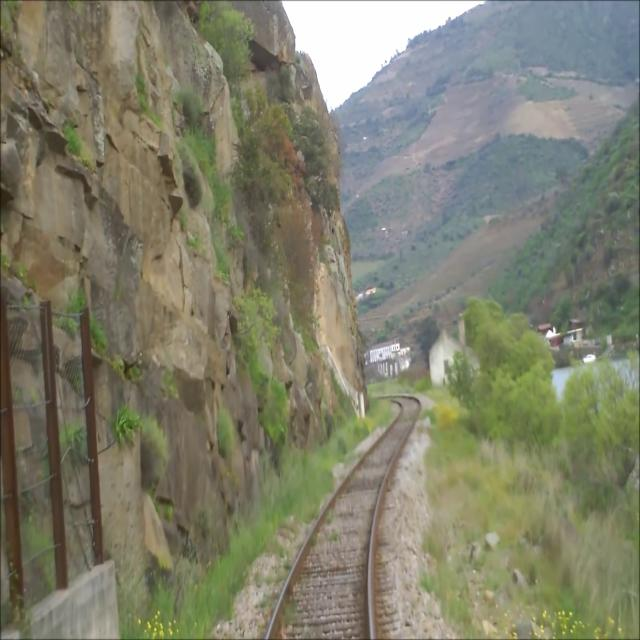rail-track: (270, 400, 417, 639)
